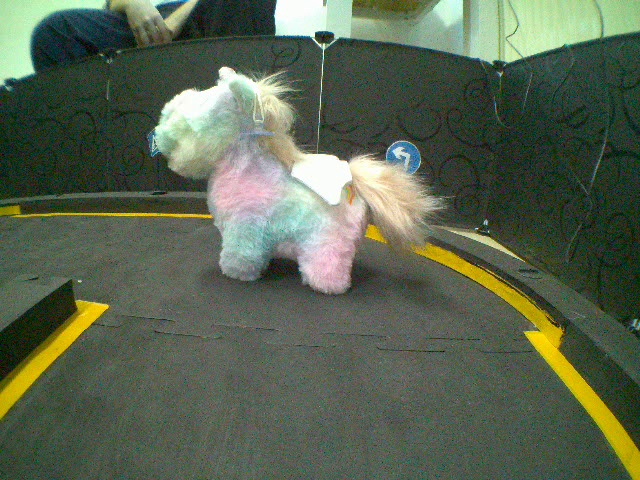unicorn: (142, 65, 448, 299)
